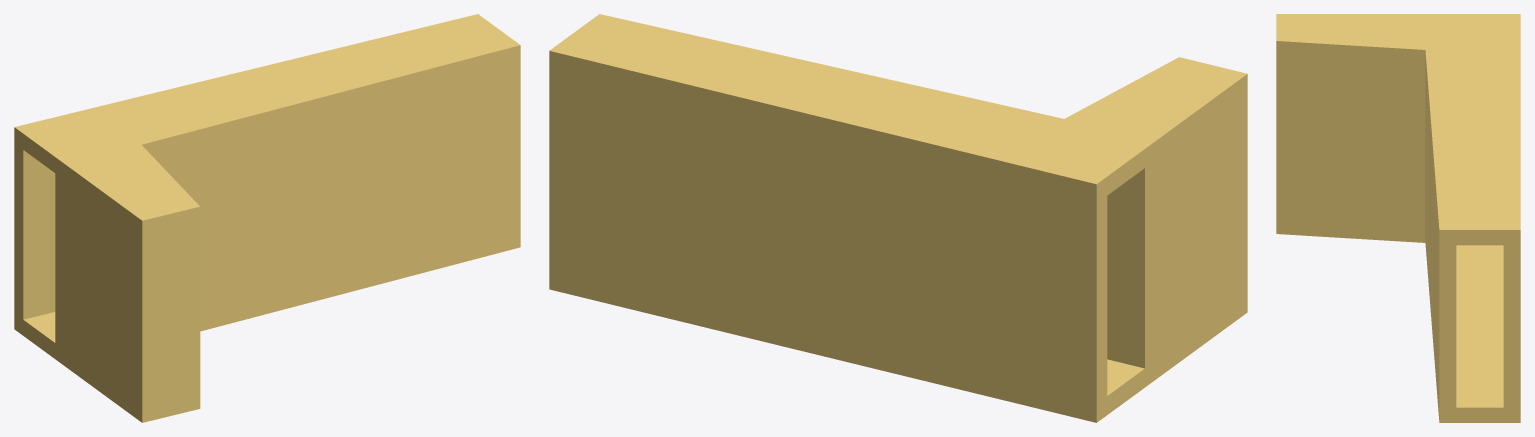
The model's file is d3d_x_axis_belt_peg_approved.glb.
3 renders of one model, left to right at view 1: azimuth 30°, elevation 25°; view 2: azimuth 150°, elevation 25°; view 3: azimuth 270°, elevation 25°, orthographic. The views are drawn at different scales.
Size of the model in its own units: 0.024 by 0.01 by 0.0115.
